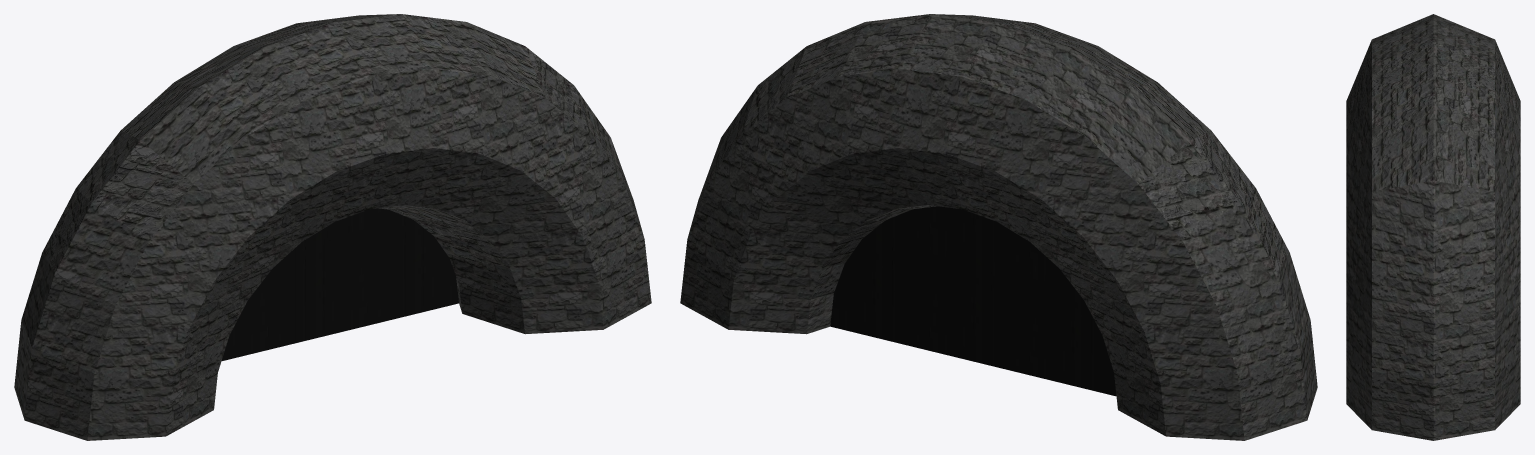
Rendered from frost_ice_cave_01.glb.
3 renders of one model, left to right at view 1: azimuth 30°, elevation 25°; view 2: azimuth 150°, elevation 25°; view 3: azimuth 270°, elevation 25°, orthographic. The views are drawn at different scales.
Visible parts, largest first — view 1: frost_ice_cave_01; view 2: frost_ice_cave_01; view 3: frost_ice_cave_01.
Part boxes in pixels (left/top/right/bottom): frost_ice_cave_01: left=14, top=14, right=651, bottom=440; frost_ice_cave_01: left=680, top=14, right=1317, bottom=440; frost_ice_cave_01: left=1346, top=14, right=1520, bottom=440.
Size of the model in its own units: 6.2 by 3.1 by 1.8.
Materials: 3 (3 with a texture image).
